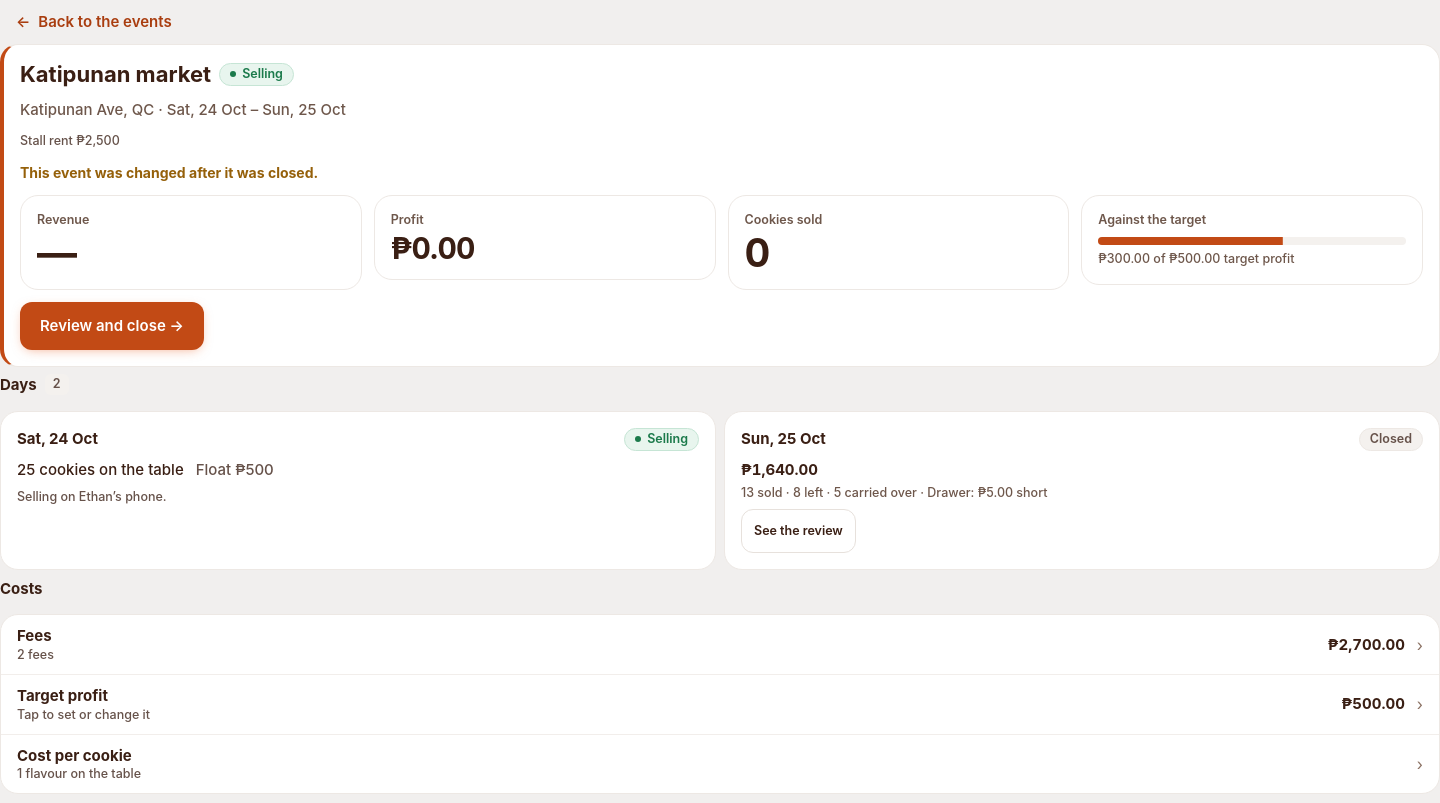
Test: the event page › refuses a target that is not an amount, on the field
Click the button "Target profit Tap to set or change it ₱500.00 ›" at x=62, y=696, box [1,675,1439,734]
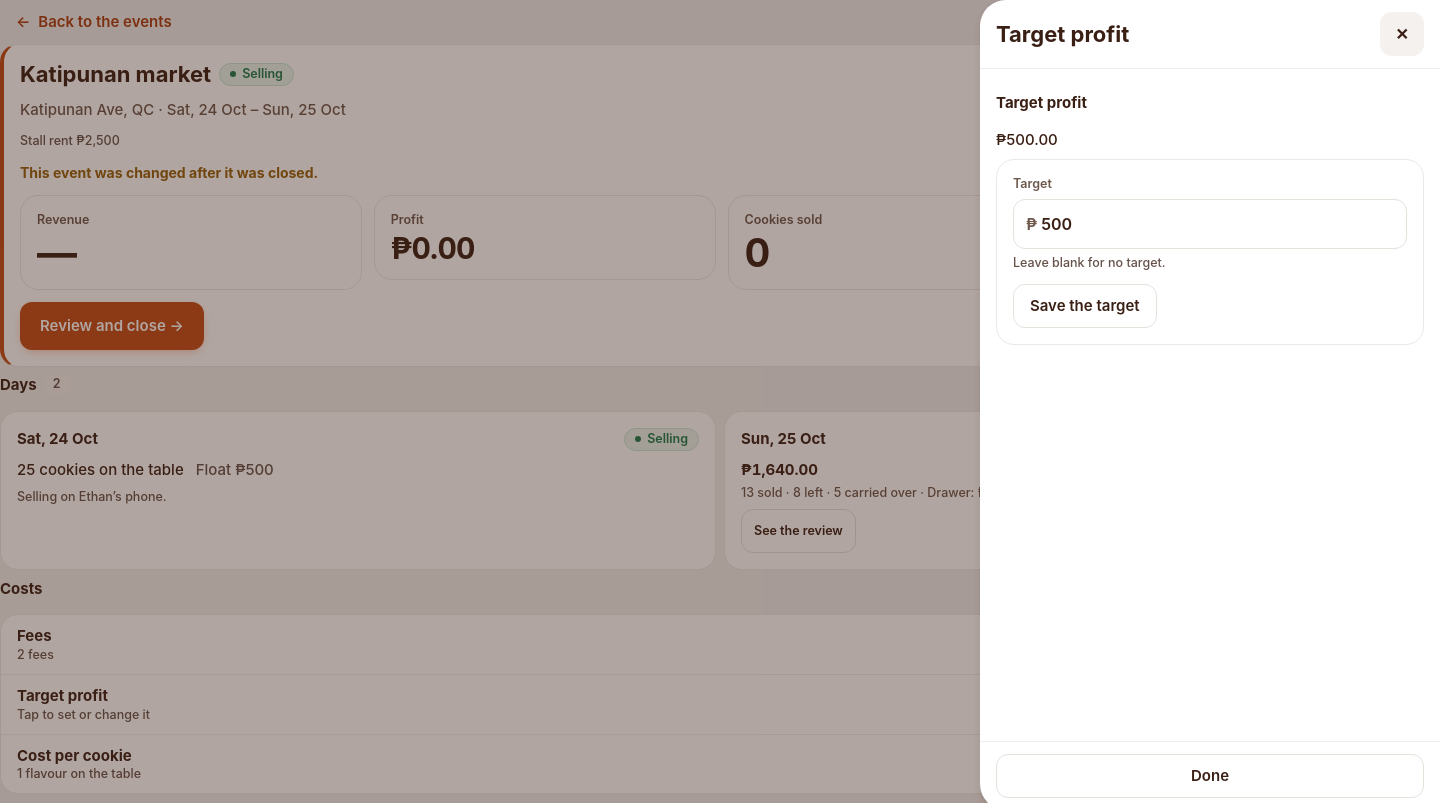
Replace the text in the field labelled "Target" with "lots" at x=1222, y=224, box [1037,200,1406,248]
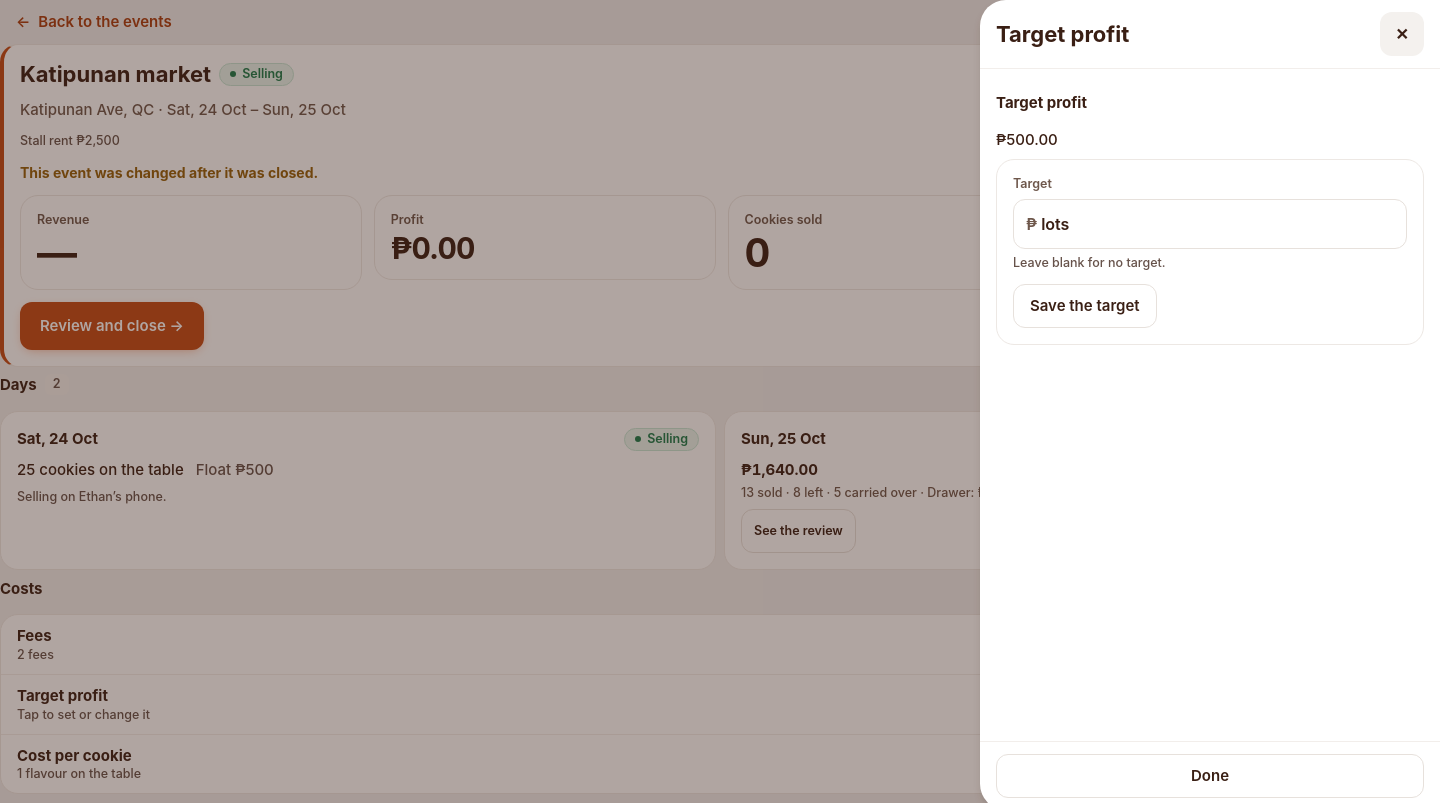
Click the button "Save the target" at x=1085, y=306, box [1013,284,1157,328]
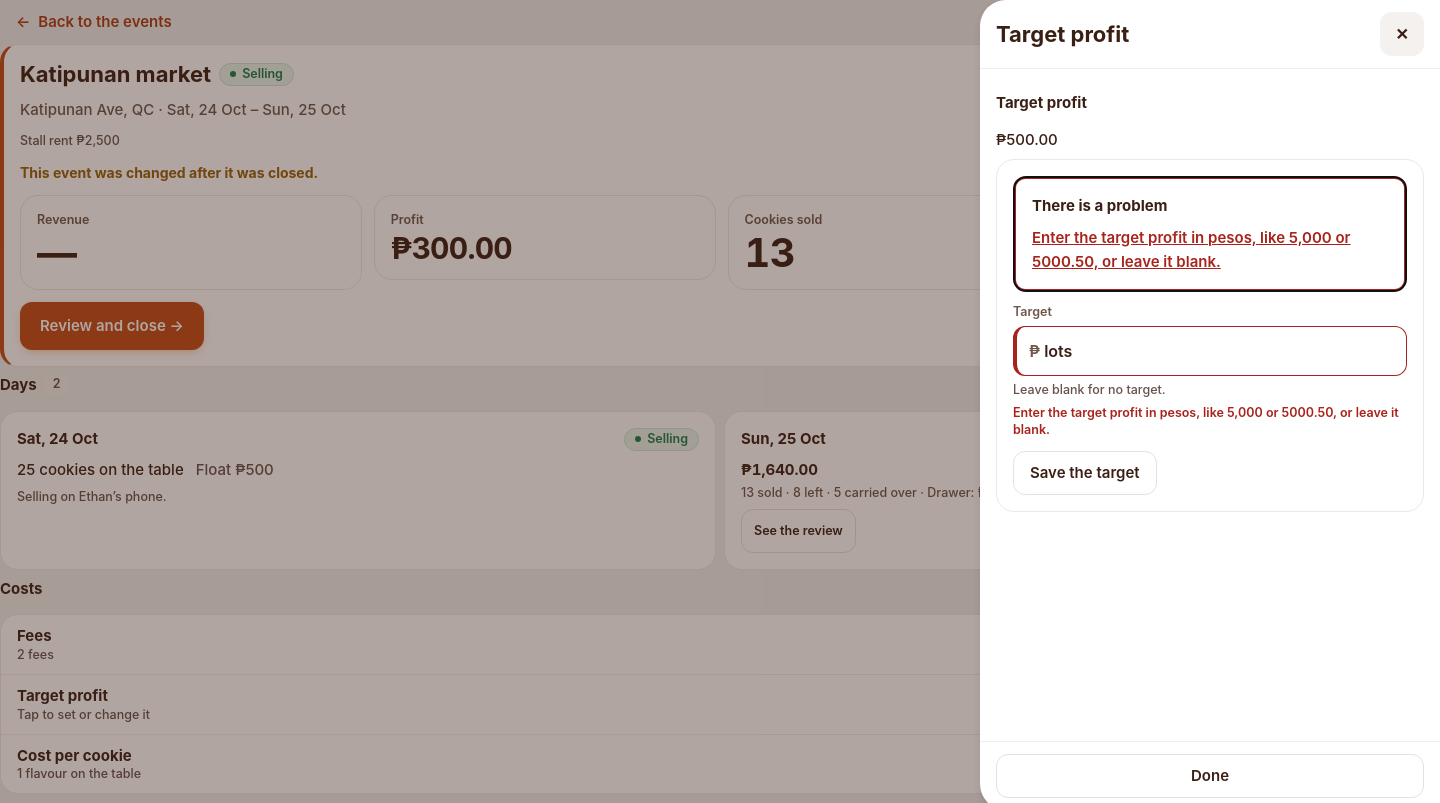
Expected: the link "Enter the target profit in pesos" is shown, [1032,228,1351,270]
